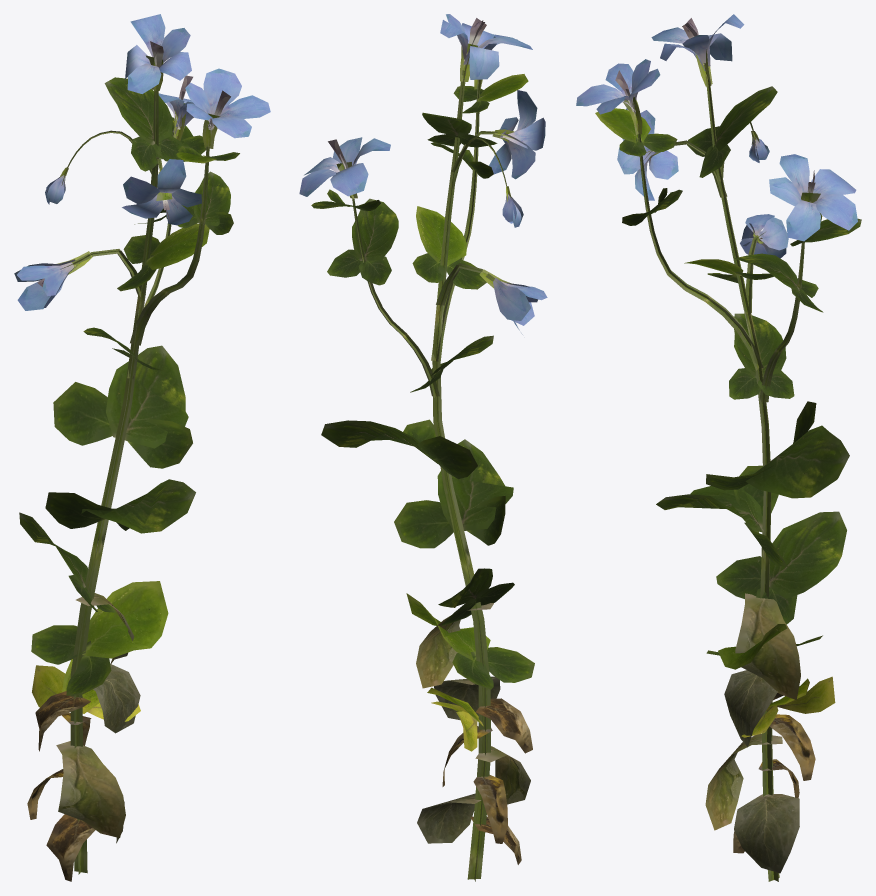
Rendered from Periwinkle_OG_normal_lightblue.glb.
The picture shows the model from 3 angles, left to right: view 1: azimuth 30°, elevation 25°; view 2: azimuth 150°, elevation 25°; view 3: azimuth 270°, elevation 25°; orthographic projection. The views are drawn at different scales.
Parts seen in each view (by area): view 1: _419c_Var3_LOD1; view 2: _419c_Var3_LOD1; view 3: _419c_Var3_LOD1.
Part boxes in pixels (x1,y1,x2,y2): _419c_Var3_LOD1: (14,14,270,881); _419c_Var3_LOD1: (299,14,547,881); _419c_Var3_LOD1: (576,14,861,881).
Bounding box in the file's own units: 0.6129 × 2.19 × 0.6394.
1 material, 1 textured.
